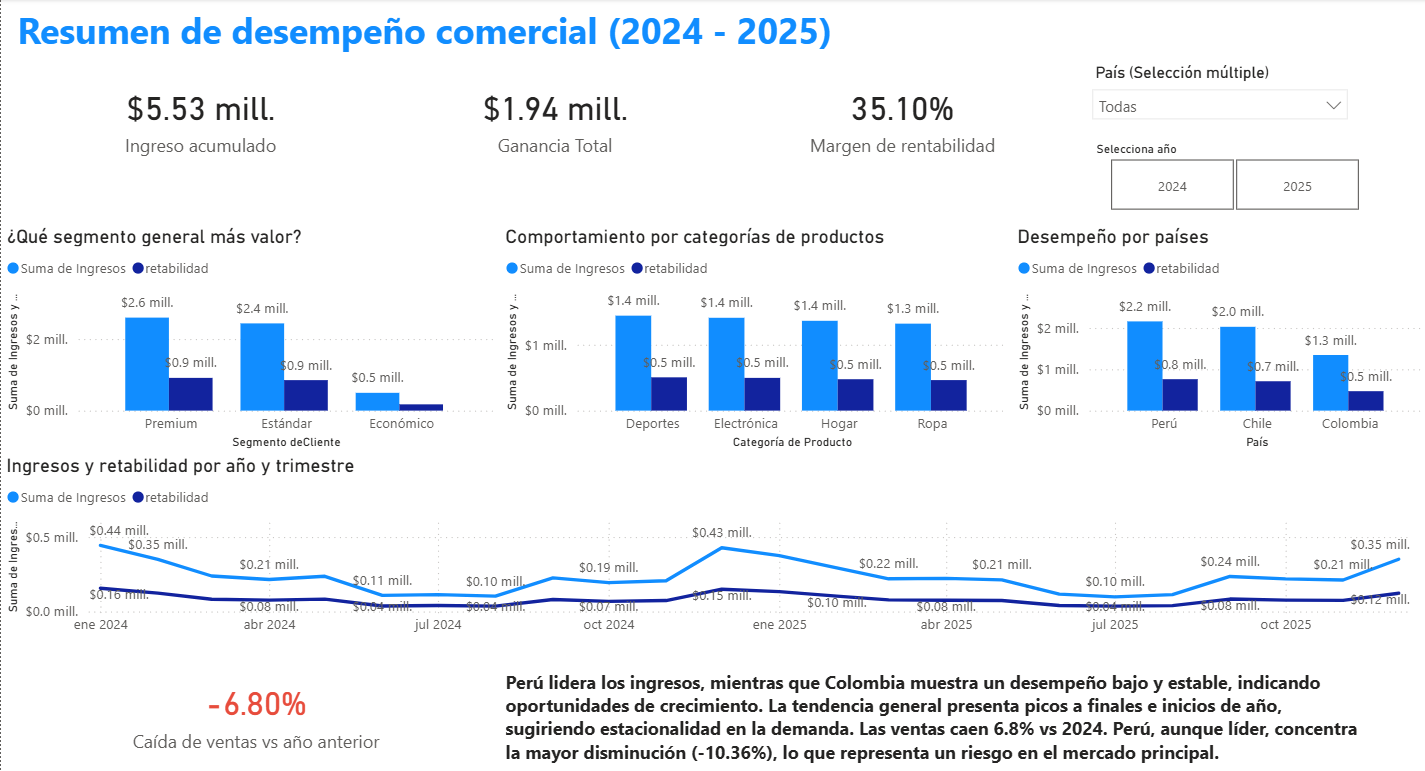

The dashboard page shown, as its layout file describes it:
{"tool":"powerbi","page":{"name":"Overview","canvas":[1280,720],"ordinal":0},"visuals":[{"type":"textbox","box":[9.7,0,872.5,72.9],"z":0},{"type":"card","fields":{"Values":["Medidas.Ingreso"]},"box":[0,60,357.3,93.1],"z":1},{"type":"card","fields":{"Values":["Medidas.retabilidad"]},"box":[338.5,60,315.2,93.1],"z":2},{"type":"card","fields":{"Values":["Medidas.Rentabilidad como porcentaje"]},"box":[653.7,60,307.2,93.1],"z":3},{"type":"clusteredColumnChart","title":"¿Qué segmento general más valor?","fields":{"Category":["Andes_Retail_Group_2024_2025.Segmento_Cliente"],"Y":["Sum(Andes_Retail_Group_2024_2025.Ingresos)","Medidas.retabilidad"]},"box":[0,202.3,446.4,205.2],"z":4},{"type":"clusteredColumnChart","title":"Comportamiento por categorías de productos","fields":{"Y":["Sum(Andes_Retail_Group_2024_2025.Ingresos)","Medidas.retabilidad"],"Category":["Andes_Retail_Group_2024_2025.Categoría_Producto"]},"box":[446.4,202.3,459.1,205.2],"z":5},{"type":"slicer","fields":{"Values":["Andes_Retail_Group_2024_2025.País"]},"box":[967.2,52.8,249,69.9],"z":6},{"type":"lineChart","title":"Ingresos y retabilidad por año y trimestre","fields":{"Category":["Andes_Retail_Group_2024_2025.Fecha_Pedido.Variación.Jerarquía de fechas.Año","Andes_Retail_Group_2024_2025.Fecha_Pedido.Variación.Jerarquía de fechas.Mes"],"Y":["Sum(Andes_Retail_Group_2024_2025.Ingresos)","Medidas.retabilidad"]},"box":[0,407.5,1279.7,171],"z":7},{"type":"slicer","fields":{"Values":["Andes_Retail_Group_2024_2025.Fecha_Pedido.Variación.Jerarquía de fechas.Año"]},"box":[968.1,122.7,272.2,73.4],"z":8},{"type":"clusteredColumnChart","title":"Desempeño por países","fields":{"Y":["Sum(Andes_Retail_Group_2024_2025.Ingresos)","Medidas.retabilidad"],"Category":["Andes_Retail_Group_2024_2025.País"]},"box":[905.5,202.3,374.5,205.2],"z":9},{"type":"textbox","box":[446.9,578.5,783.6,129.9],"z":10},{"type":"card","fields":{"Values":["Medidas.Variación entre años"]},"box":[9.9,578.5,437,122.7],"z":11}]}

Visuals, with their boxes on the page's 1280x720 design canvas (x1, y1, x2, y2). These are canvas units, not pixel positions in the 1425x771 screenshot, which may show the page scaled, cropped or inside an application window:
textbox: 10, 0, 882, 73
card - Medidas.Ingreso: 0, 60, 357, 153
card - Medidas.retabilidad: 338, 60, 654, 153
card - Medidas.Rentabilidad como porcentaje: 654, 60, 961, 153
"¿Qué segmento general más valor?" clusteredColumnChart: 0, 202, 446, 408
"Comportamiento por categorías de productos" clusteredColumnChart: 446, 202, 906, 408
slicer - Andes_Retail_Group_2024_2025.País: 967, 53, 1216, 123
"Ingresos y retabilidad por año y trimestre" lineChart: 0, 408, 1280, 578
slicer - Andes_Retail_Group_2024_2025.Fecha_Pedido.Variación.Jerarquía de fechas.Año: 968, 123, 1240, 196
"Desempeño por países" clusteredColumnChart: 906, 202, 1280, 408
textbox: 447, 578, 1230, 708
card - Medidas.Variación entre años: 10, 578, 447, 701
